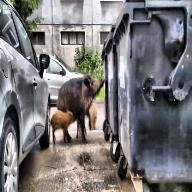boar: (57, 62, 104, 137), (48, 102, 74, 144), (88, 99, 100, 131)
